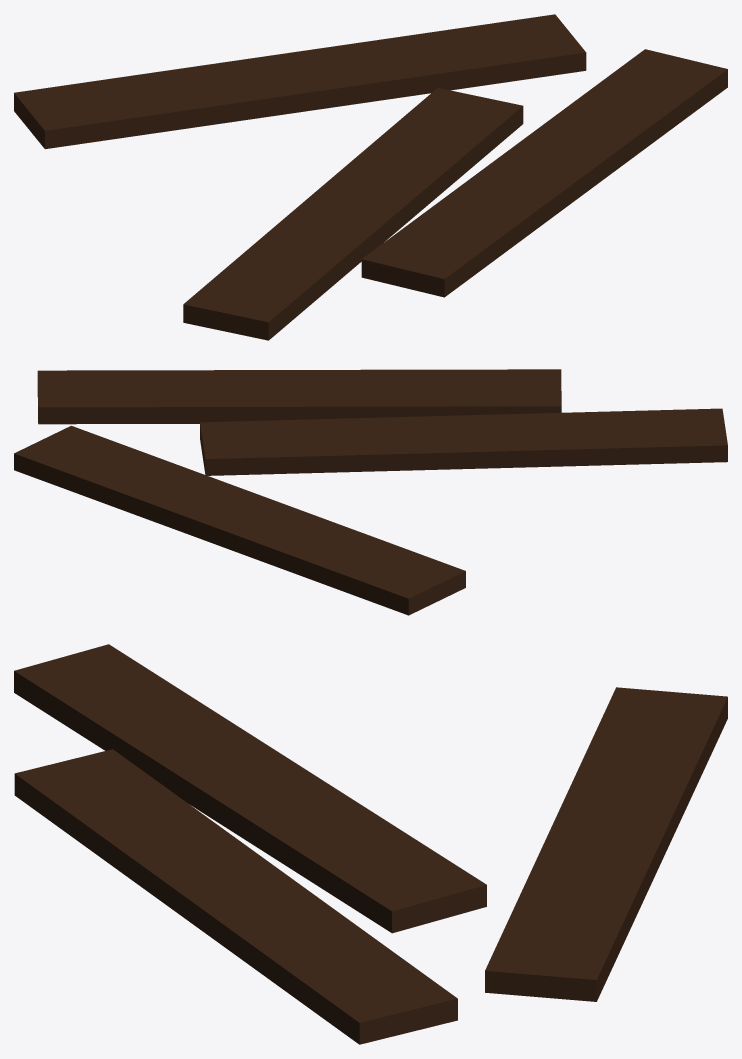
Rendered from Tabuas2.fbx.
3 renders of one model, top to bottom at view 1: azimuth 30°, elevation 25°; view 2: azimuth 150°, elevation 25°; view 3: azimuth 270°, elevation 25°, orthographic. The views are drawn at different scales.
Parts seen in each view (by area): view 1: Cube.304; view 2: Cube.304; view 3: Cube.304.
Part boxes in pixels (box(x1,y1,x2,y2)): Cube.304: box(14, 14, 727, 340); Cube.304: box(14, 369, 727, 615); Cube.304: box(14, 644, 727, 1044).
Bounding box in the file's own units: 245 × 6.64 × 196.
